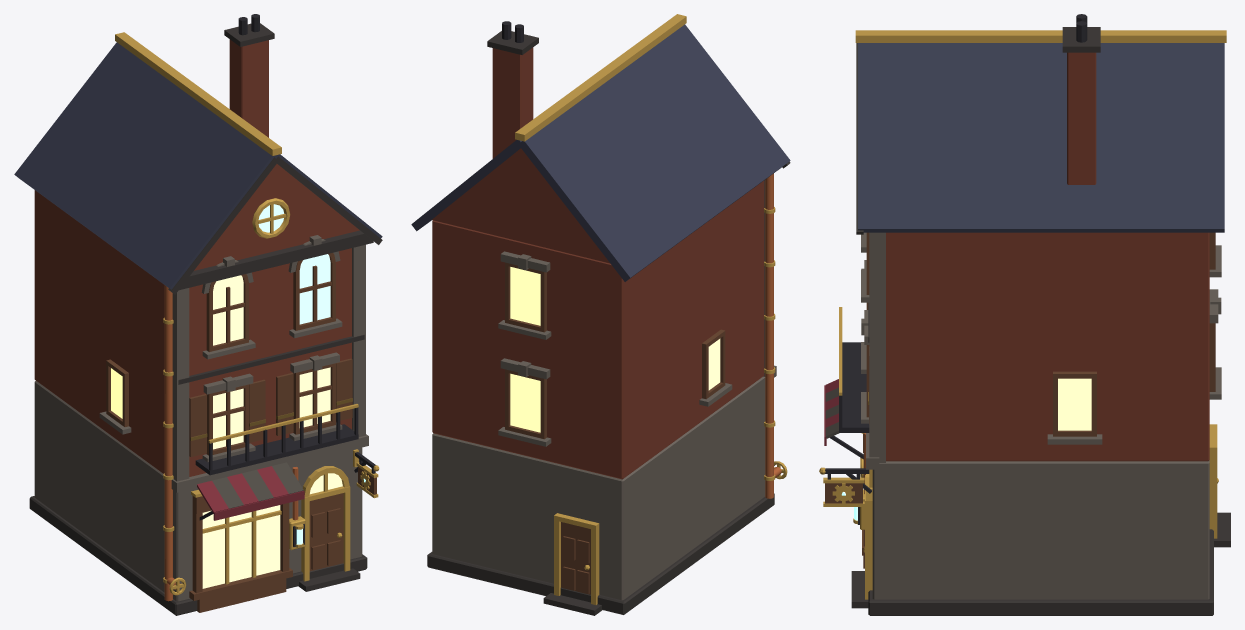
The model's file is CasaEstreitaA.fbx.
3 renders of one model, left to right at view 1: azimuth 30°, elevation 25°; view 2: azimuth 150°, elevation 25°; view 3: azimuth 270°, elevation 25°, orthographic. The views are drawn at different scales.
Visible parts, largest first — view 1: Corpo, JanelaAndar0, JanelaAndar1, JanelaCristal, JanelaAndar2, Placa; view 2: Corpo, JanelaAndar1, JanelaAndar2; view 3: Corpo, JanelaAndar1, Placa.
Part boxes in pixels (<box>): Corpo: <box>14,14,382,615</box>; JanelaAndar0: <box>202,473,342,588</box>; JanelaAndar1: <box>111,367,330,449</box>; JanelaCristal: <box>258,204,330,324</box>; JanelaAndar2: <box>213,275,243,345</box>; Placa: <box>356,459,378,498</box>; Corpo: <box>411,14,790,615</box>; JanelaAndar1: <box>510,338,720,432</box>; JanelaAndar2: <box>510,267,540,325</box>; Corpo: <box>819,14,1230,615</box>; JanelaAndar1: <box>1058,378,1091,430</box>; Placa: <box>823,474,864,506</box>.
Bounding box in the file's own units: 6.87 × 15.2 × 9.77.
